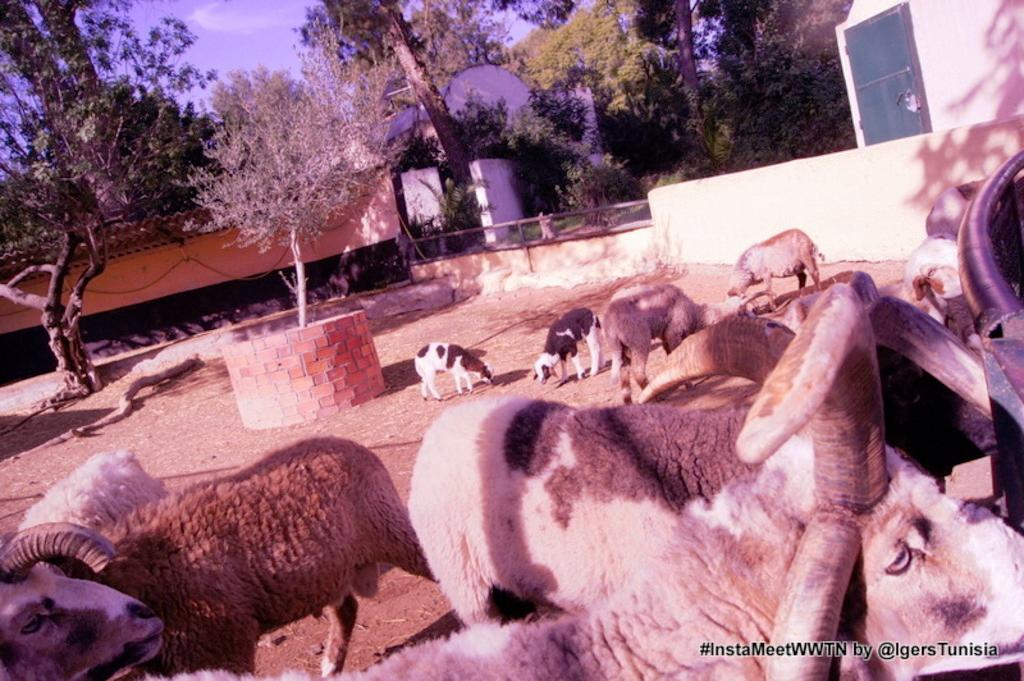Sheep: (236, 298, 1020, 681), (0, 389, 426, 681)
